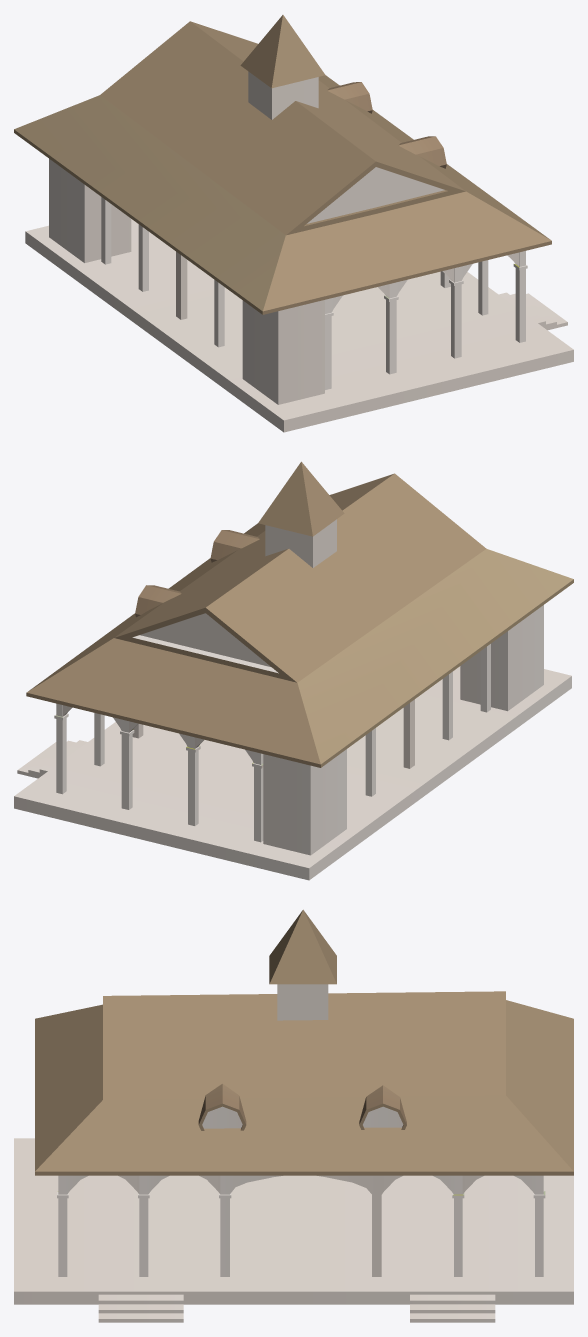
File: Frontier_Park_Scaled_Update_No_Light_4_27.fbx
3 views of the same model, one above another, from view 1: azimuth 30°, elevation 25°; view 2: azimuth 150°, elevation 25°; view 3: azimuth 270°, elevation 25° (orthographic). The views are drawn at different scales.
Parts seen in each view (by area): view 1: Plane.008; view 2: Plane.008; view 3: Plane.008.
Part boxes in pixels (x1,y1,x2,y2): Plane.008: (14, 15, 573, 432); Plane.008: (14, 461, 573, 880); Plane.008: (14, 909, 573, 1322).
Bounding box in the file's own units: 12132 × 9994 × 16235.
